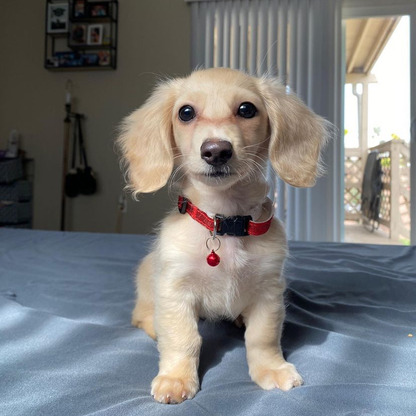dachshund: (95, 65, 351, 404)
